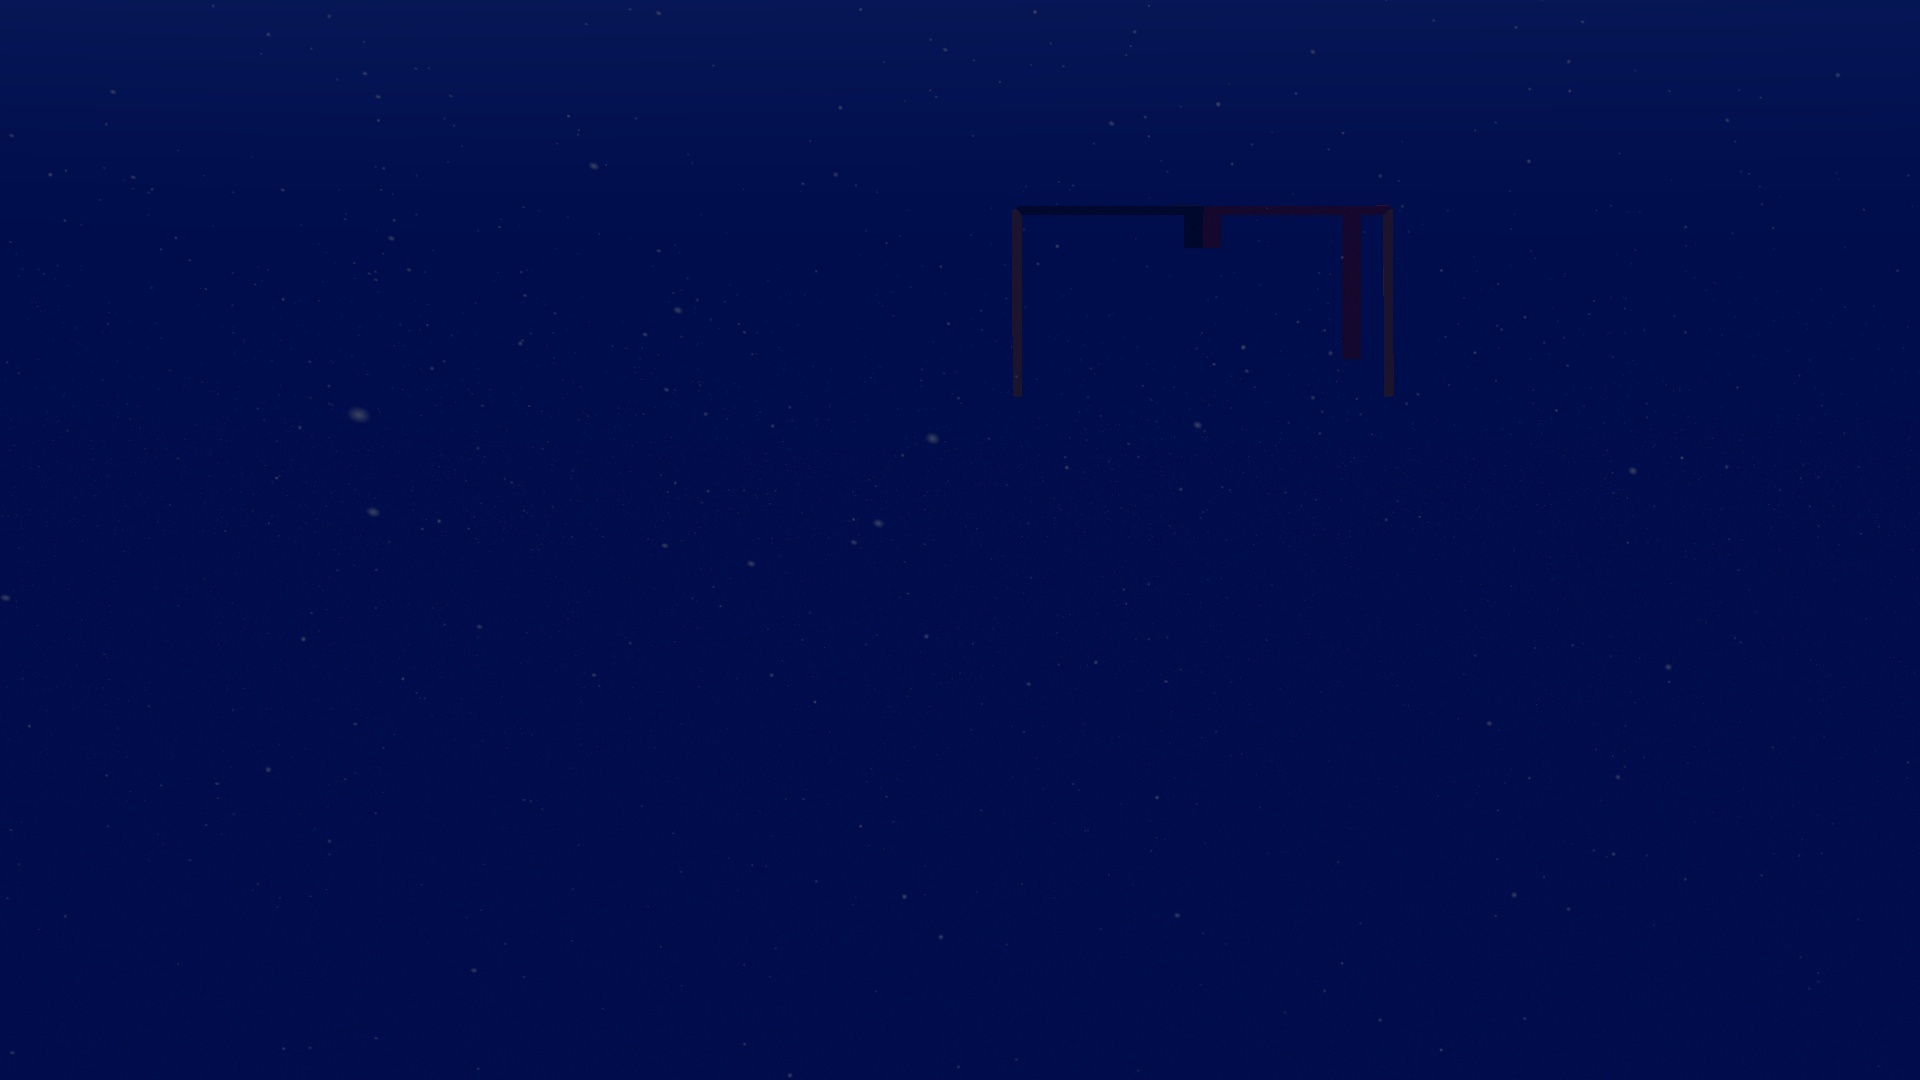Gate: (1006, 195, 1403, 411)
